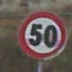limite 50: (15, 7, 68, 60)
